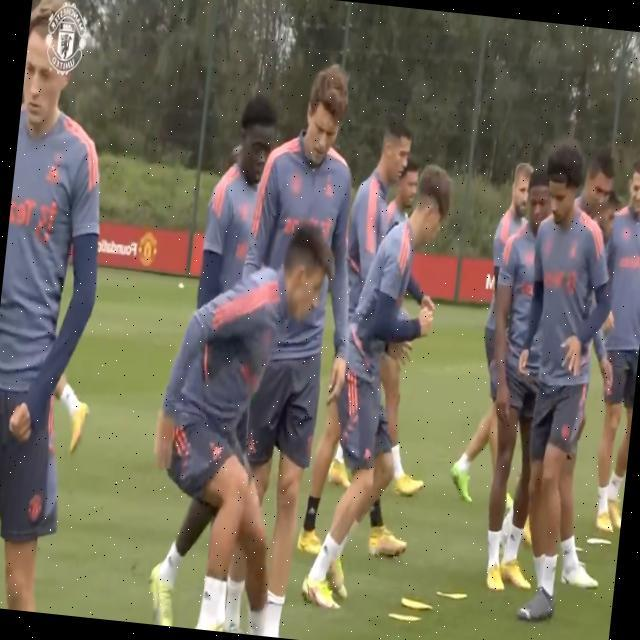Adidas: (210, 442, 224, 463), (46, 164, 60, 184), (245, 439, 258, 455), (323, 182, 335, 197)
